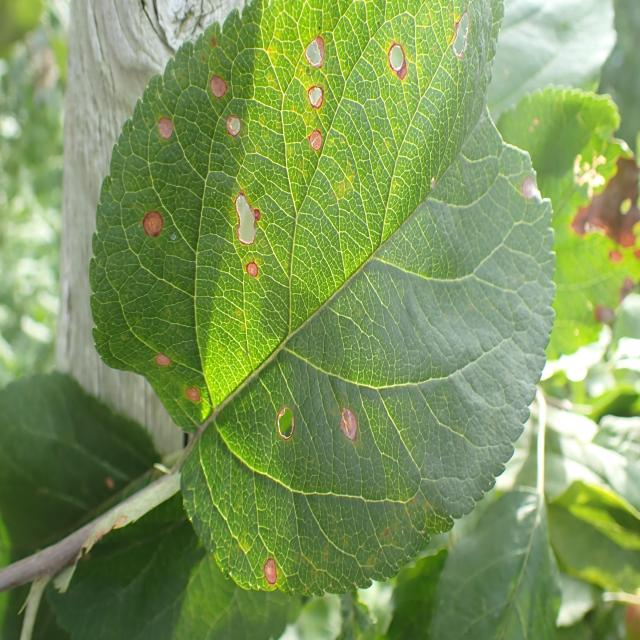Black Rot: (513, 138, 548, 247), (327, 390, 368, 483), (375, 32, 429, 96), (438, 0, 478, 76), (229, 176, 265, 254), (251, 536, 293, 601), (286, 18, 330, 76), (263, 399, 306, 457), (217, 108, 262, 162), (134, 193, 170, 253), (146, 104, 183, 160), (297, 129, 342, 165), (236, 257, 267, 307), (202, 61, 235, 106), (176, 373, 210, 415), (146, 331, 174, 380), (299, 82, 335, 118)
